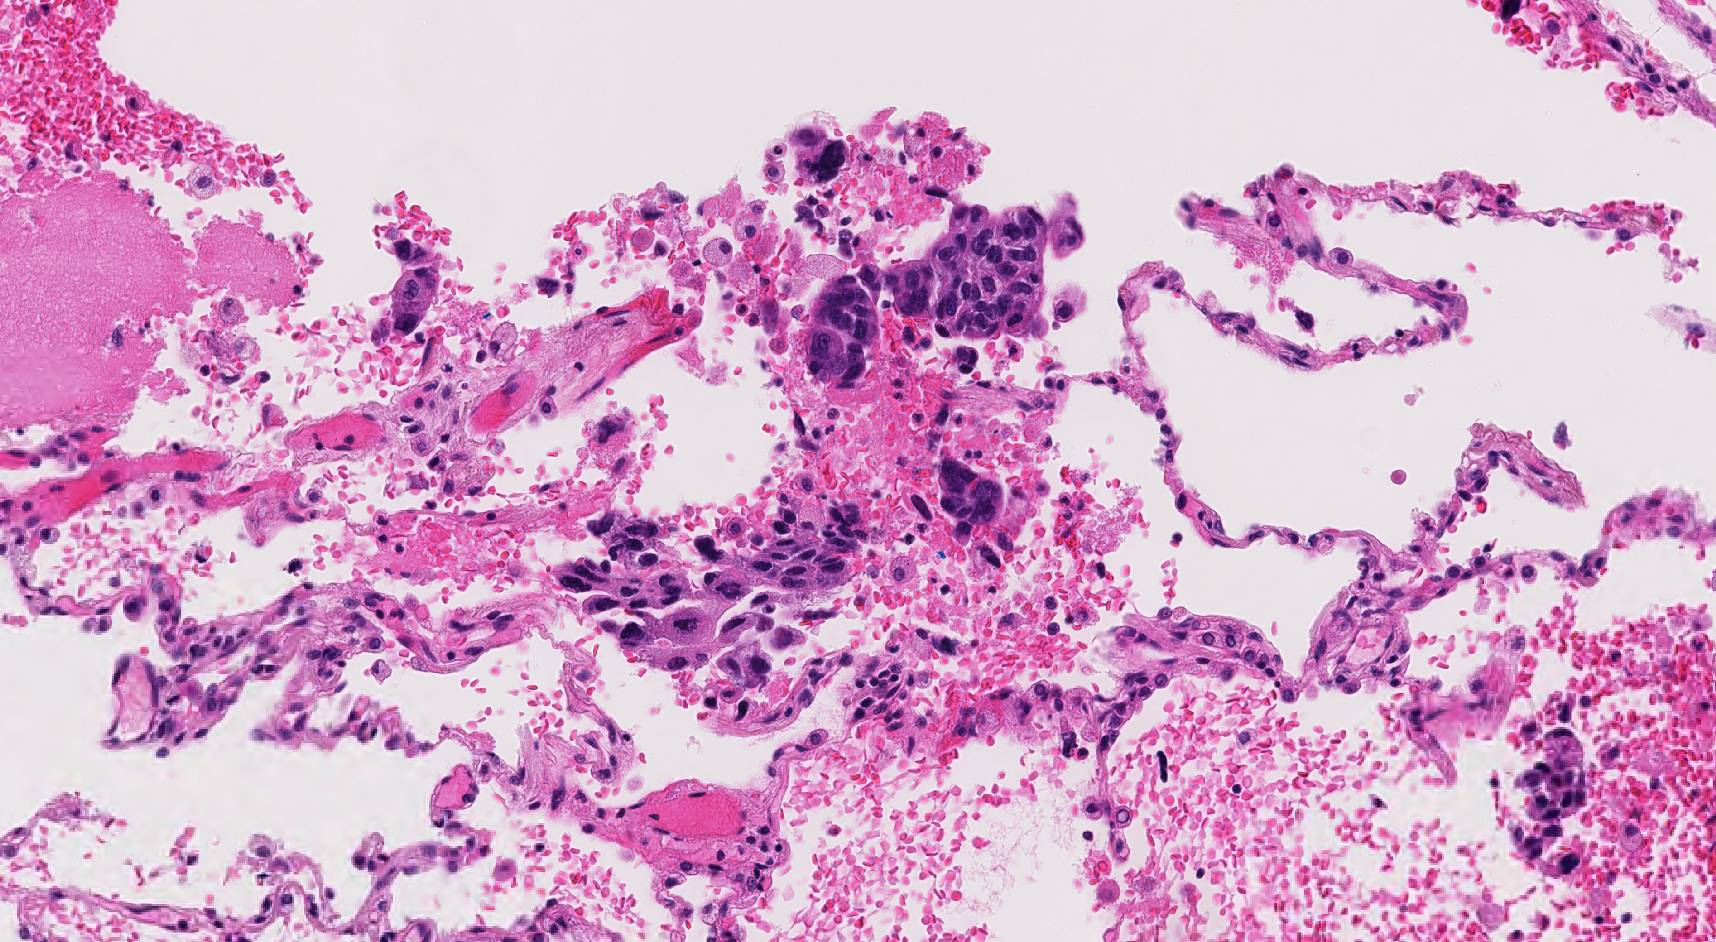stas: (554, 500, 866, 711), (795, 199, 1049, 390), (1502, 723, 1593, 873), (372, 235, 446, 336), (933, 452, 1013, 532), (787, 121, 854, 189)
